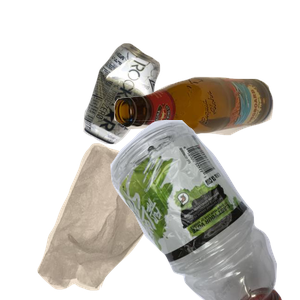glass: (111, 74, 300, 204)
metal: (81, 41, 234, 178)
plastic: (73, 120, 300, 300)
trash: (35, 140, 203, 300)
